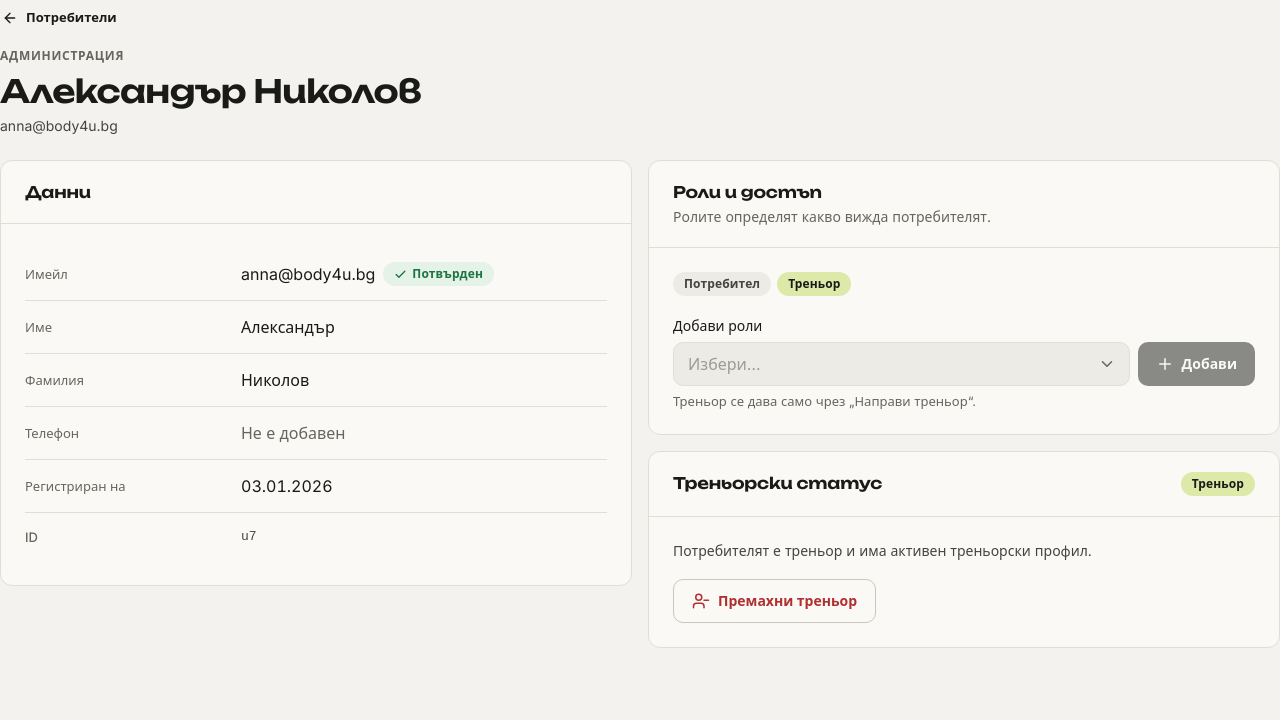
Test case: UserDetailsPage › asks before removing the trainer role, then deletes it
Click the button "Премахни треньор".
click(775, 601)  # box [673, 579, 876, 623]
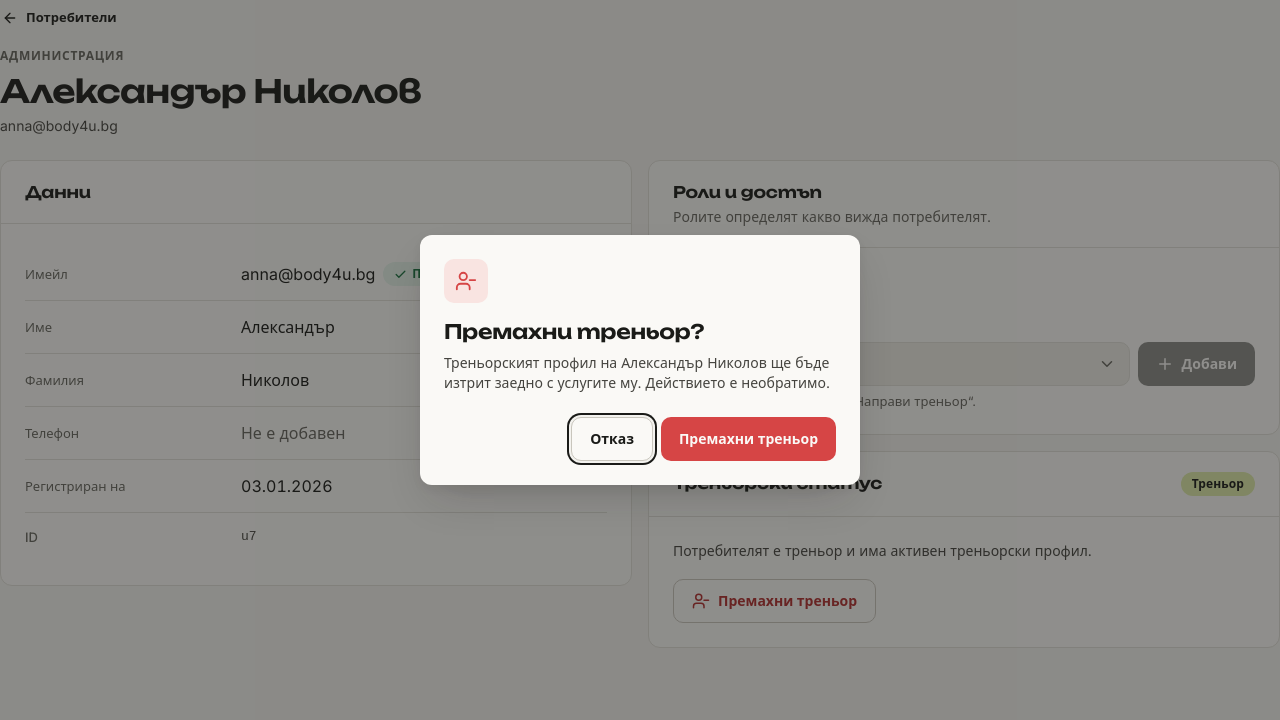
Click the button "Премахни треньор".
click(748, 439)  # box [661, 417, 836, 461]
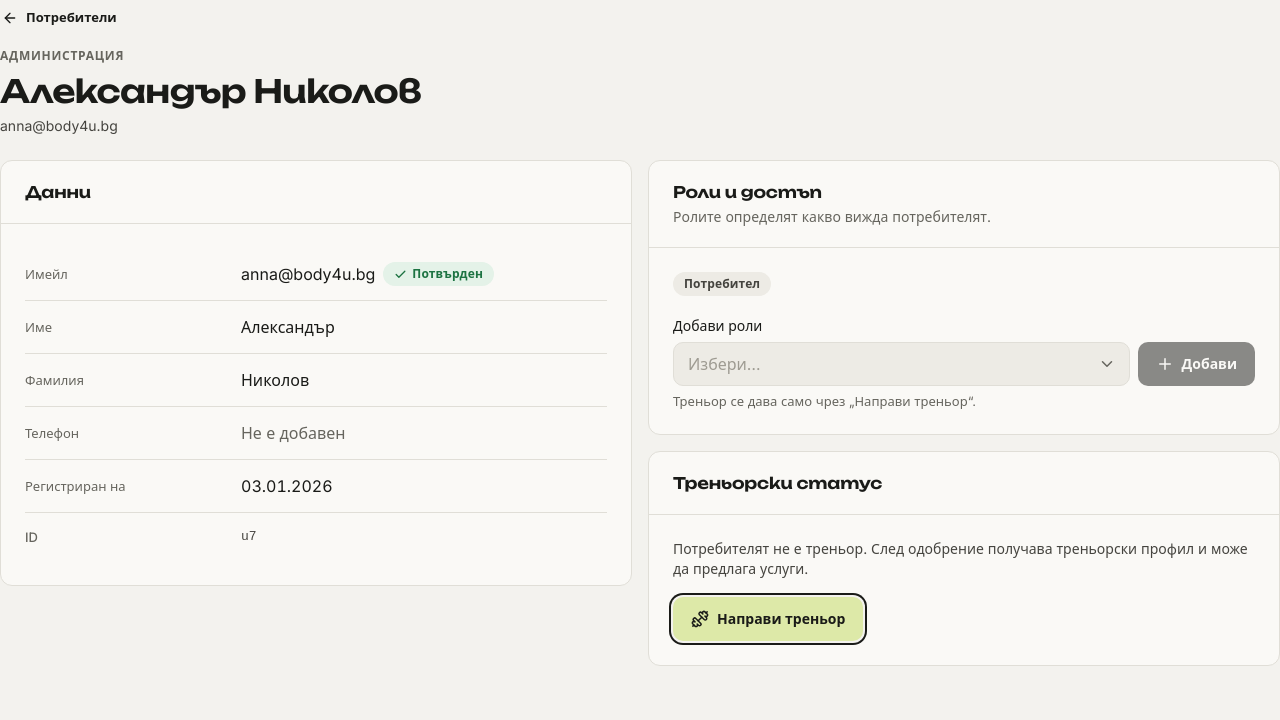
Check: the button "Направи треньор" is shown, box [673, 597, 863, 641]
Check: the dialog is gone
